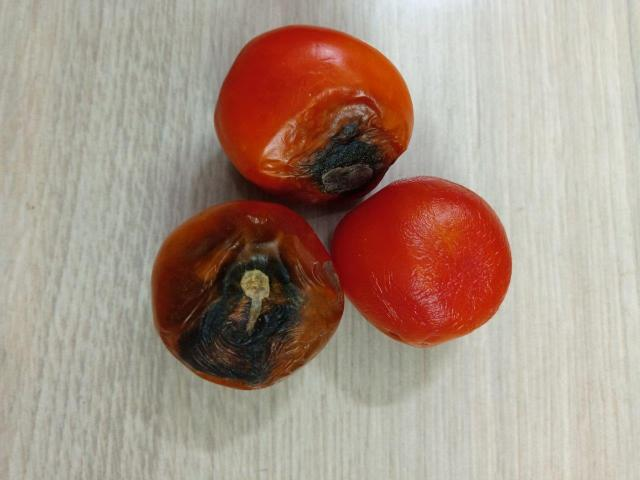defect: (146, 198, 345, 393), (209, 21, 416, 208)
